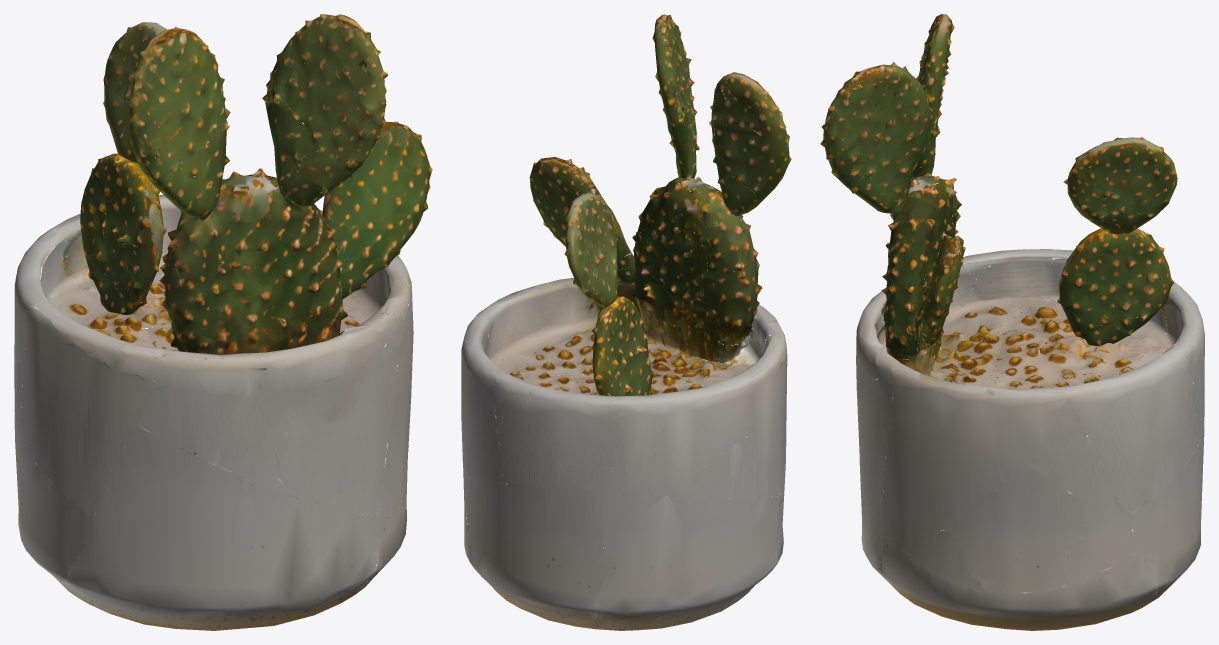
3 views of the same model, side by side, from view 1: azimuth 30°, elevation 25°; view 2: azimuth 150°, elevation 25°; view 3: azimuth 270°, elevation 25° (orthographic). The views are drawn at different scales.
Visible parts, largest first — view 1: tripo_node_5dda9f42-d6d9-4b22-8d60-2e177f843bcc; view 2: tripo_node_5dda9f42-d6d9-4b22-8d60-2e177f843bcc; view 3: tripo_node_5dda9f42-d6d9-4b22-8d60-2e177f843bcc.
Part boxes in pixels (x1,y1,x2,y2): tripo_node_5dda9f42-d6d9-4b22-8d60-2e177f843bcc: (14, 14, 432, 630); tripo_node_5dda9f42-d6d9-4b22-8d60-2e177f843bcc: (461, 14, 791, 630); tripo_node_5dda9f42-d6d9-4b22-8d60-2e177f843bcc: (820, 14, 1204, 630).
Size of the model in its own units: 0.5819 by 0.9999 by 0.647.
1 material, 1 textured.
